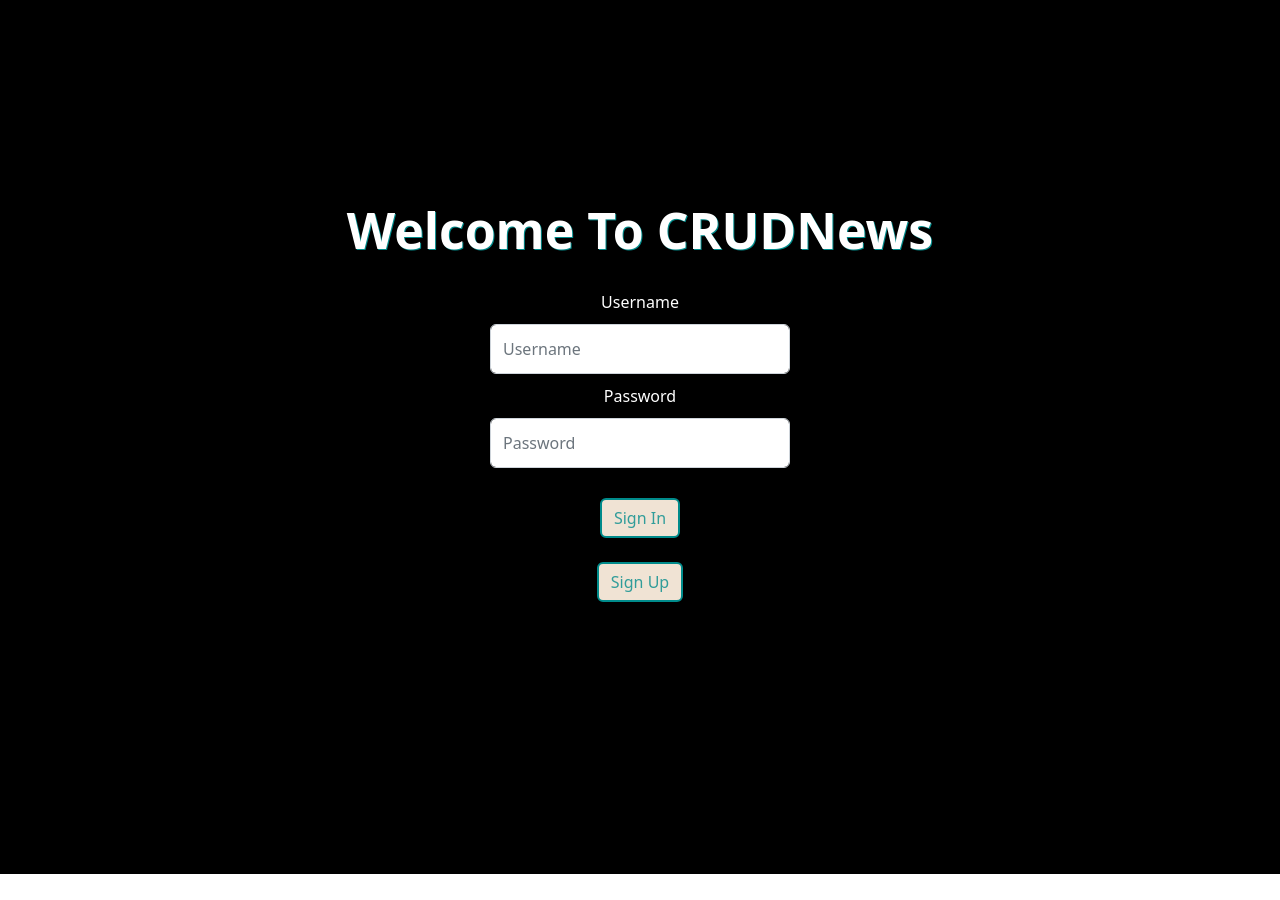
SignInPage › shows an error when login fails
Type "user1" into the field labelled "Username" at (640, 349), box [490,324,790,374]
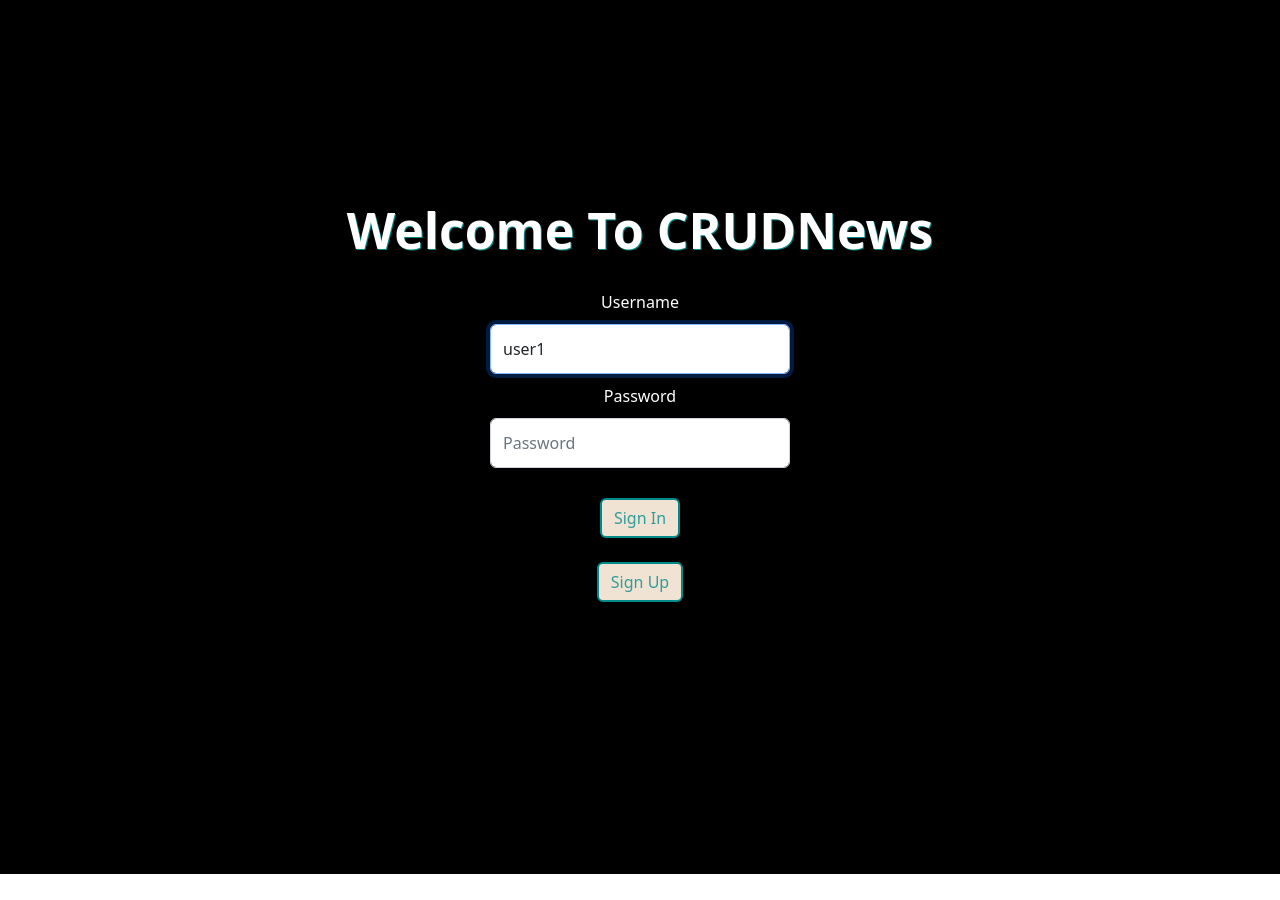
Type "Password1!" into the password field labelled "Password" at (640, 443), box [490,418,790,468]
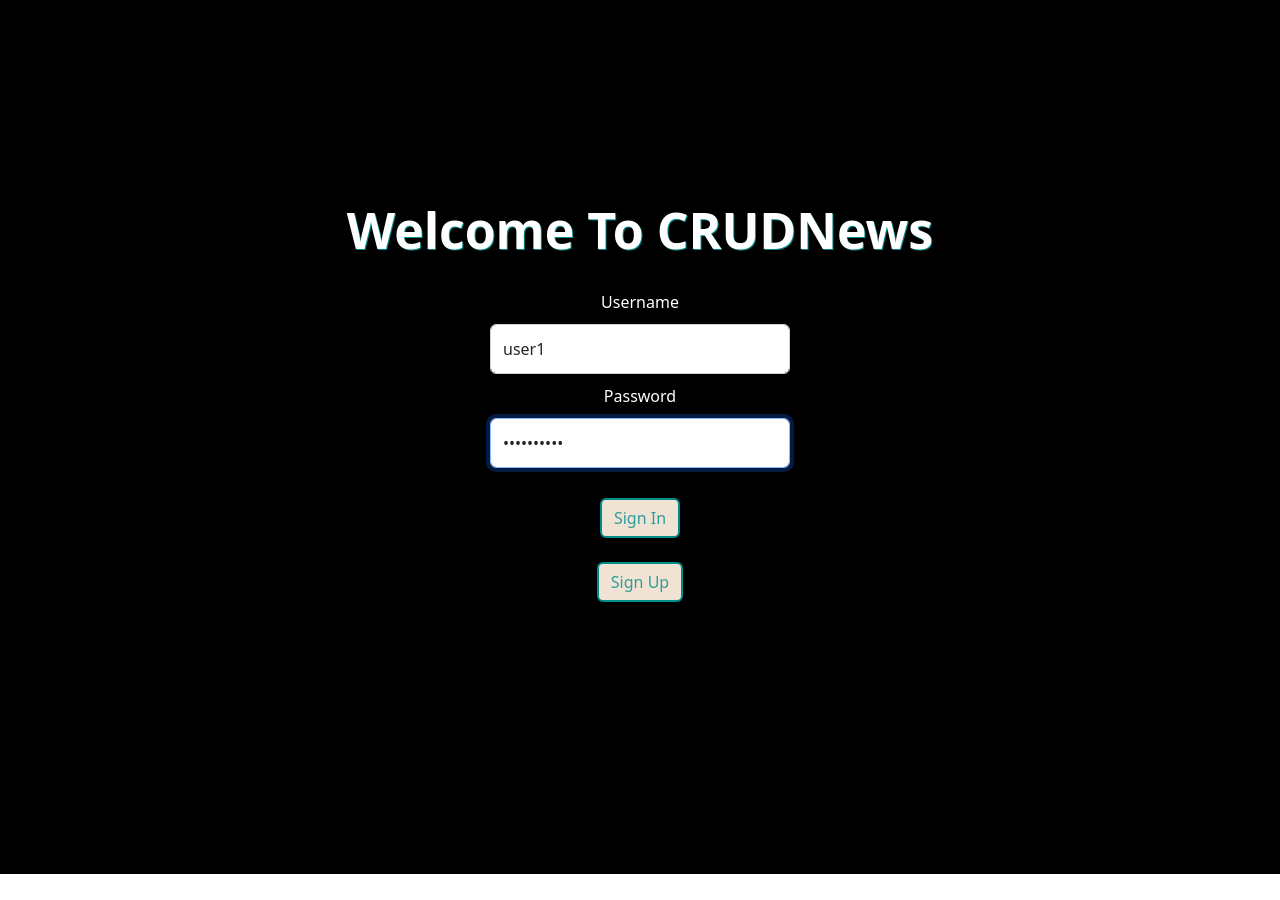
Click the button "Sign In" at (640, 518), box [600,498,680,538]
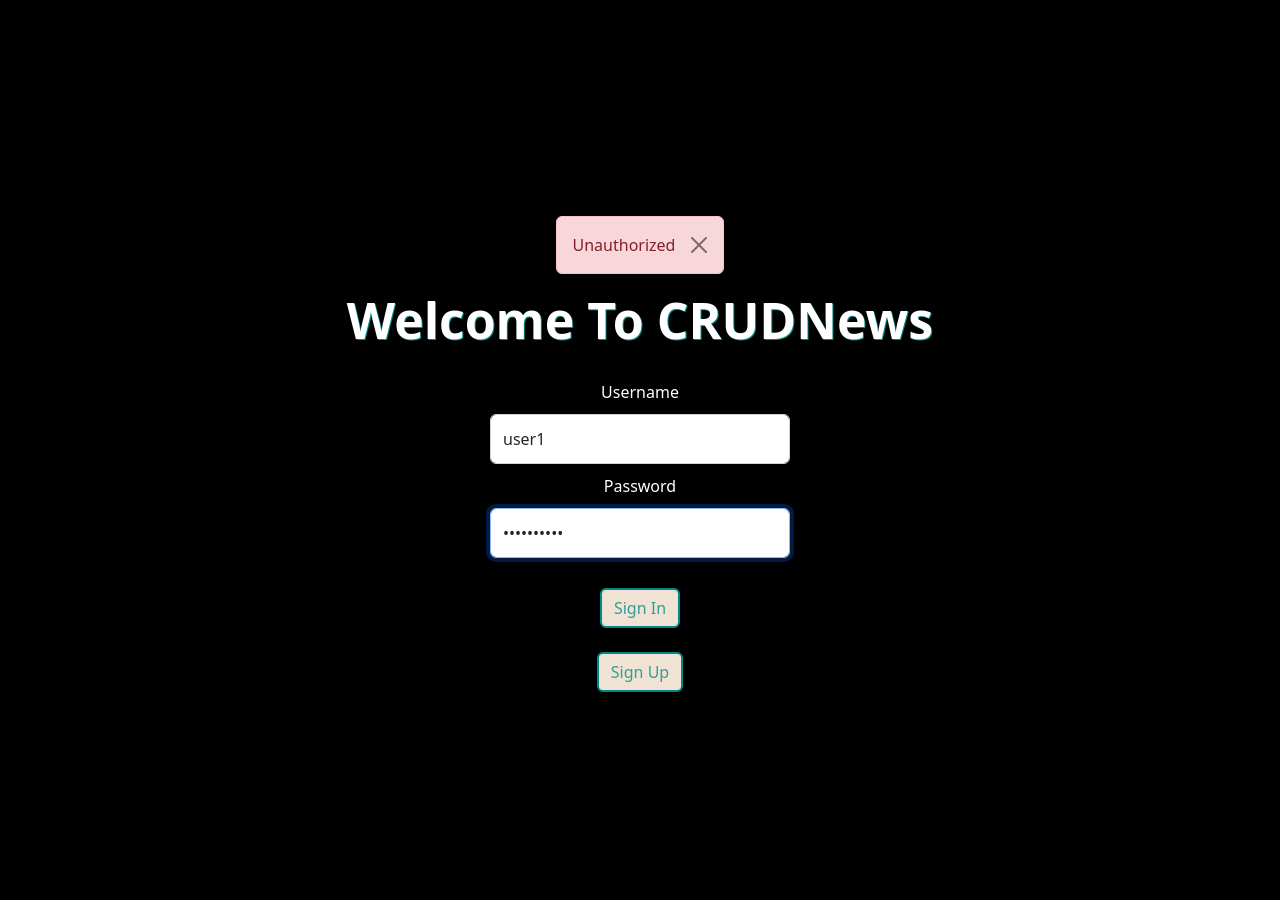
Expected: the text "Unauthorized" is shown, [556,216,724,274]
